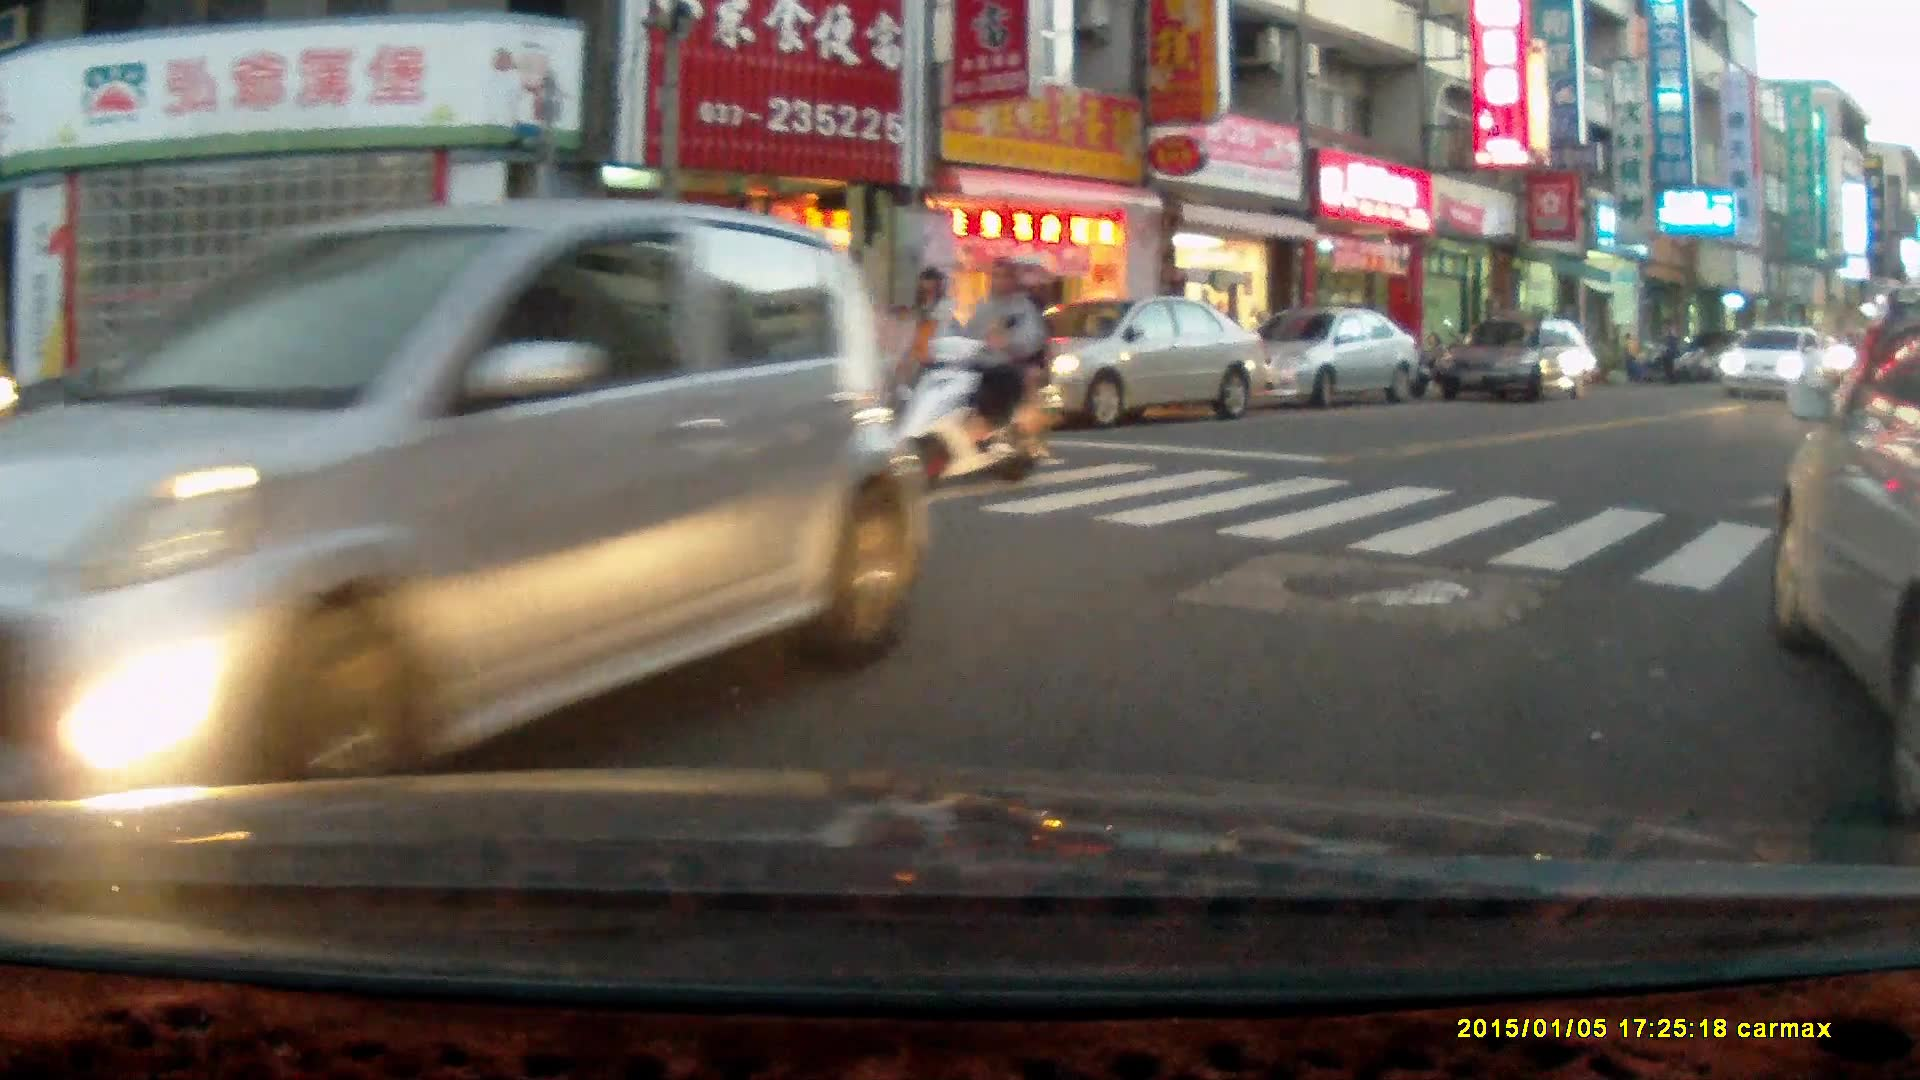pedestrian: (905, 265, 954, 407)
rider: (881, 249, 1053, 497)
vehicle: (1, 195, 944, 841), (1763, 324, 1920, 747), (983, 297, 1272, 425), (1231, 308, 1425, 405), (1432, 317, 1600, 409), (1715, 324, 1836, 401)
